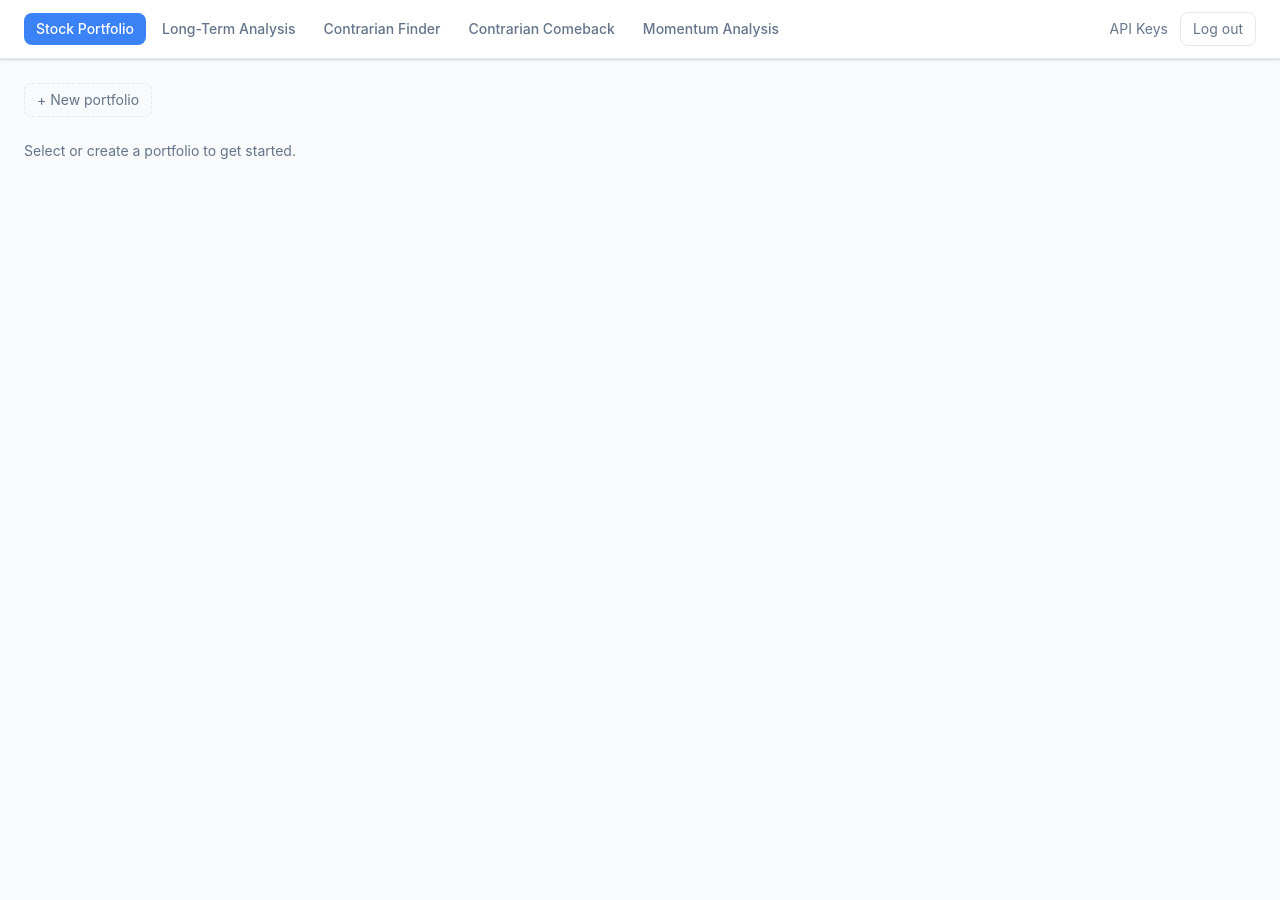
Test case: TabShell › API Keys button opens the modal, and Close dismisses it
The width and height of the screenshot is (1280, 900).
Check: the button "Close" is not shown
Step 1. Click the button "API Keys" → (1139, 29), box [1110,19,1168,39]
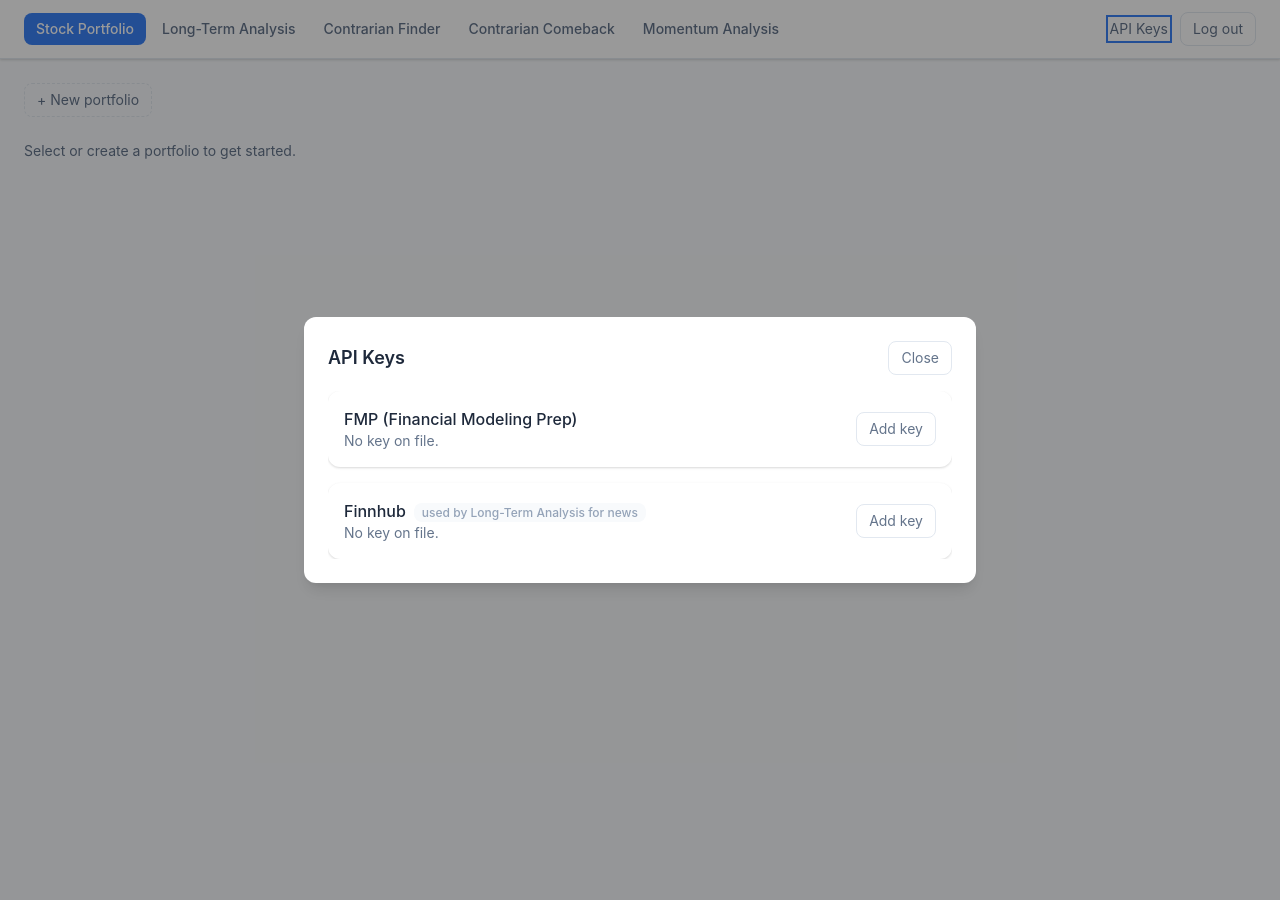
Check: the text "FMP (Financial Modeling Prep)" is shown, box [344,407,578,431]
Step 2. Click the button "Close" → (920, 358), box [888,341,952,375]
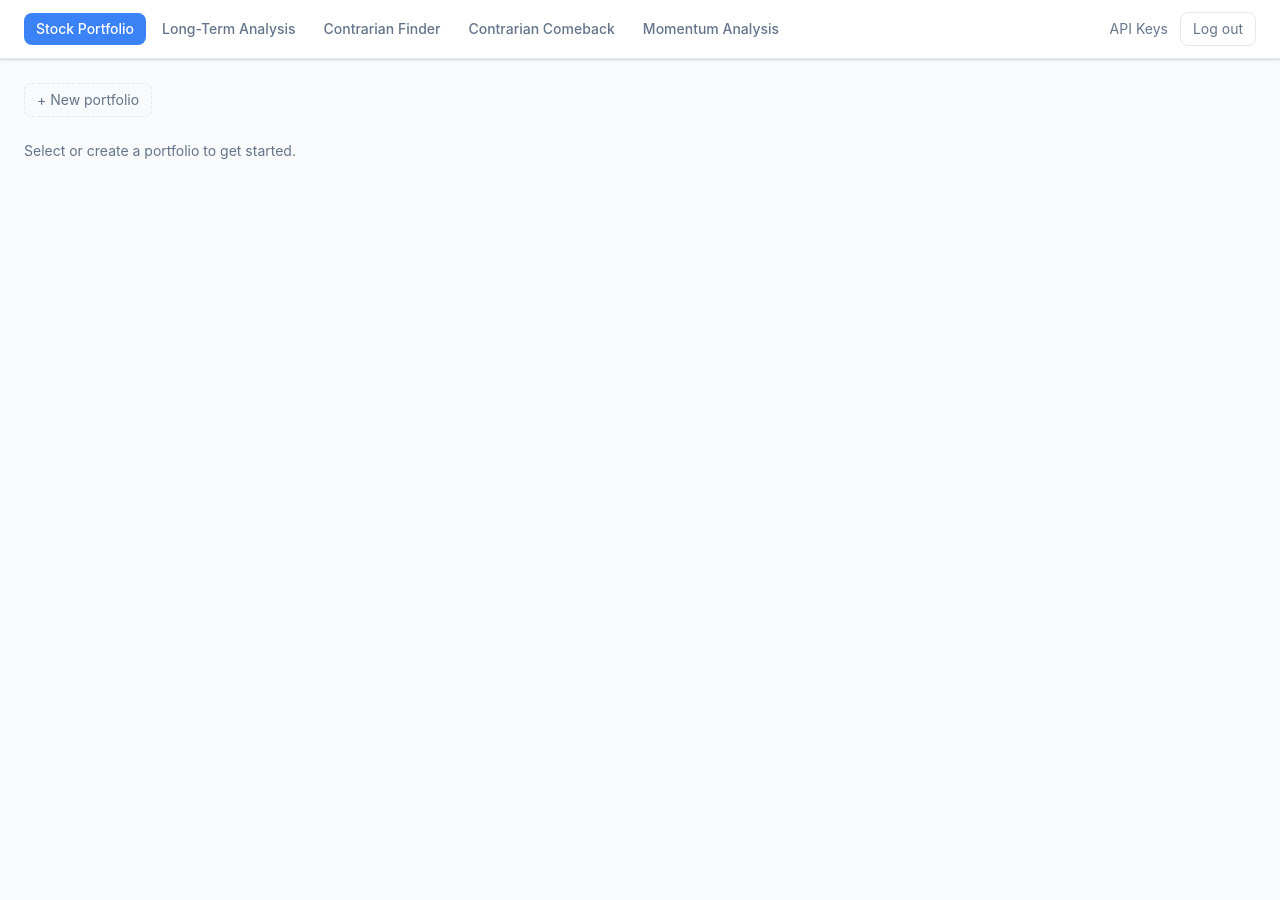
Check: the text "FMP (Financial Modeling Prep)" is gone
